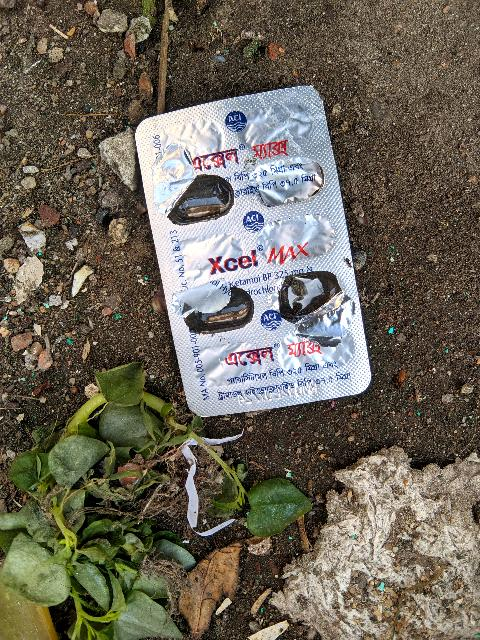medicine: (130, 83, 368, 416)
